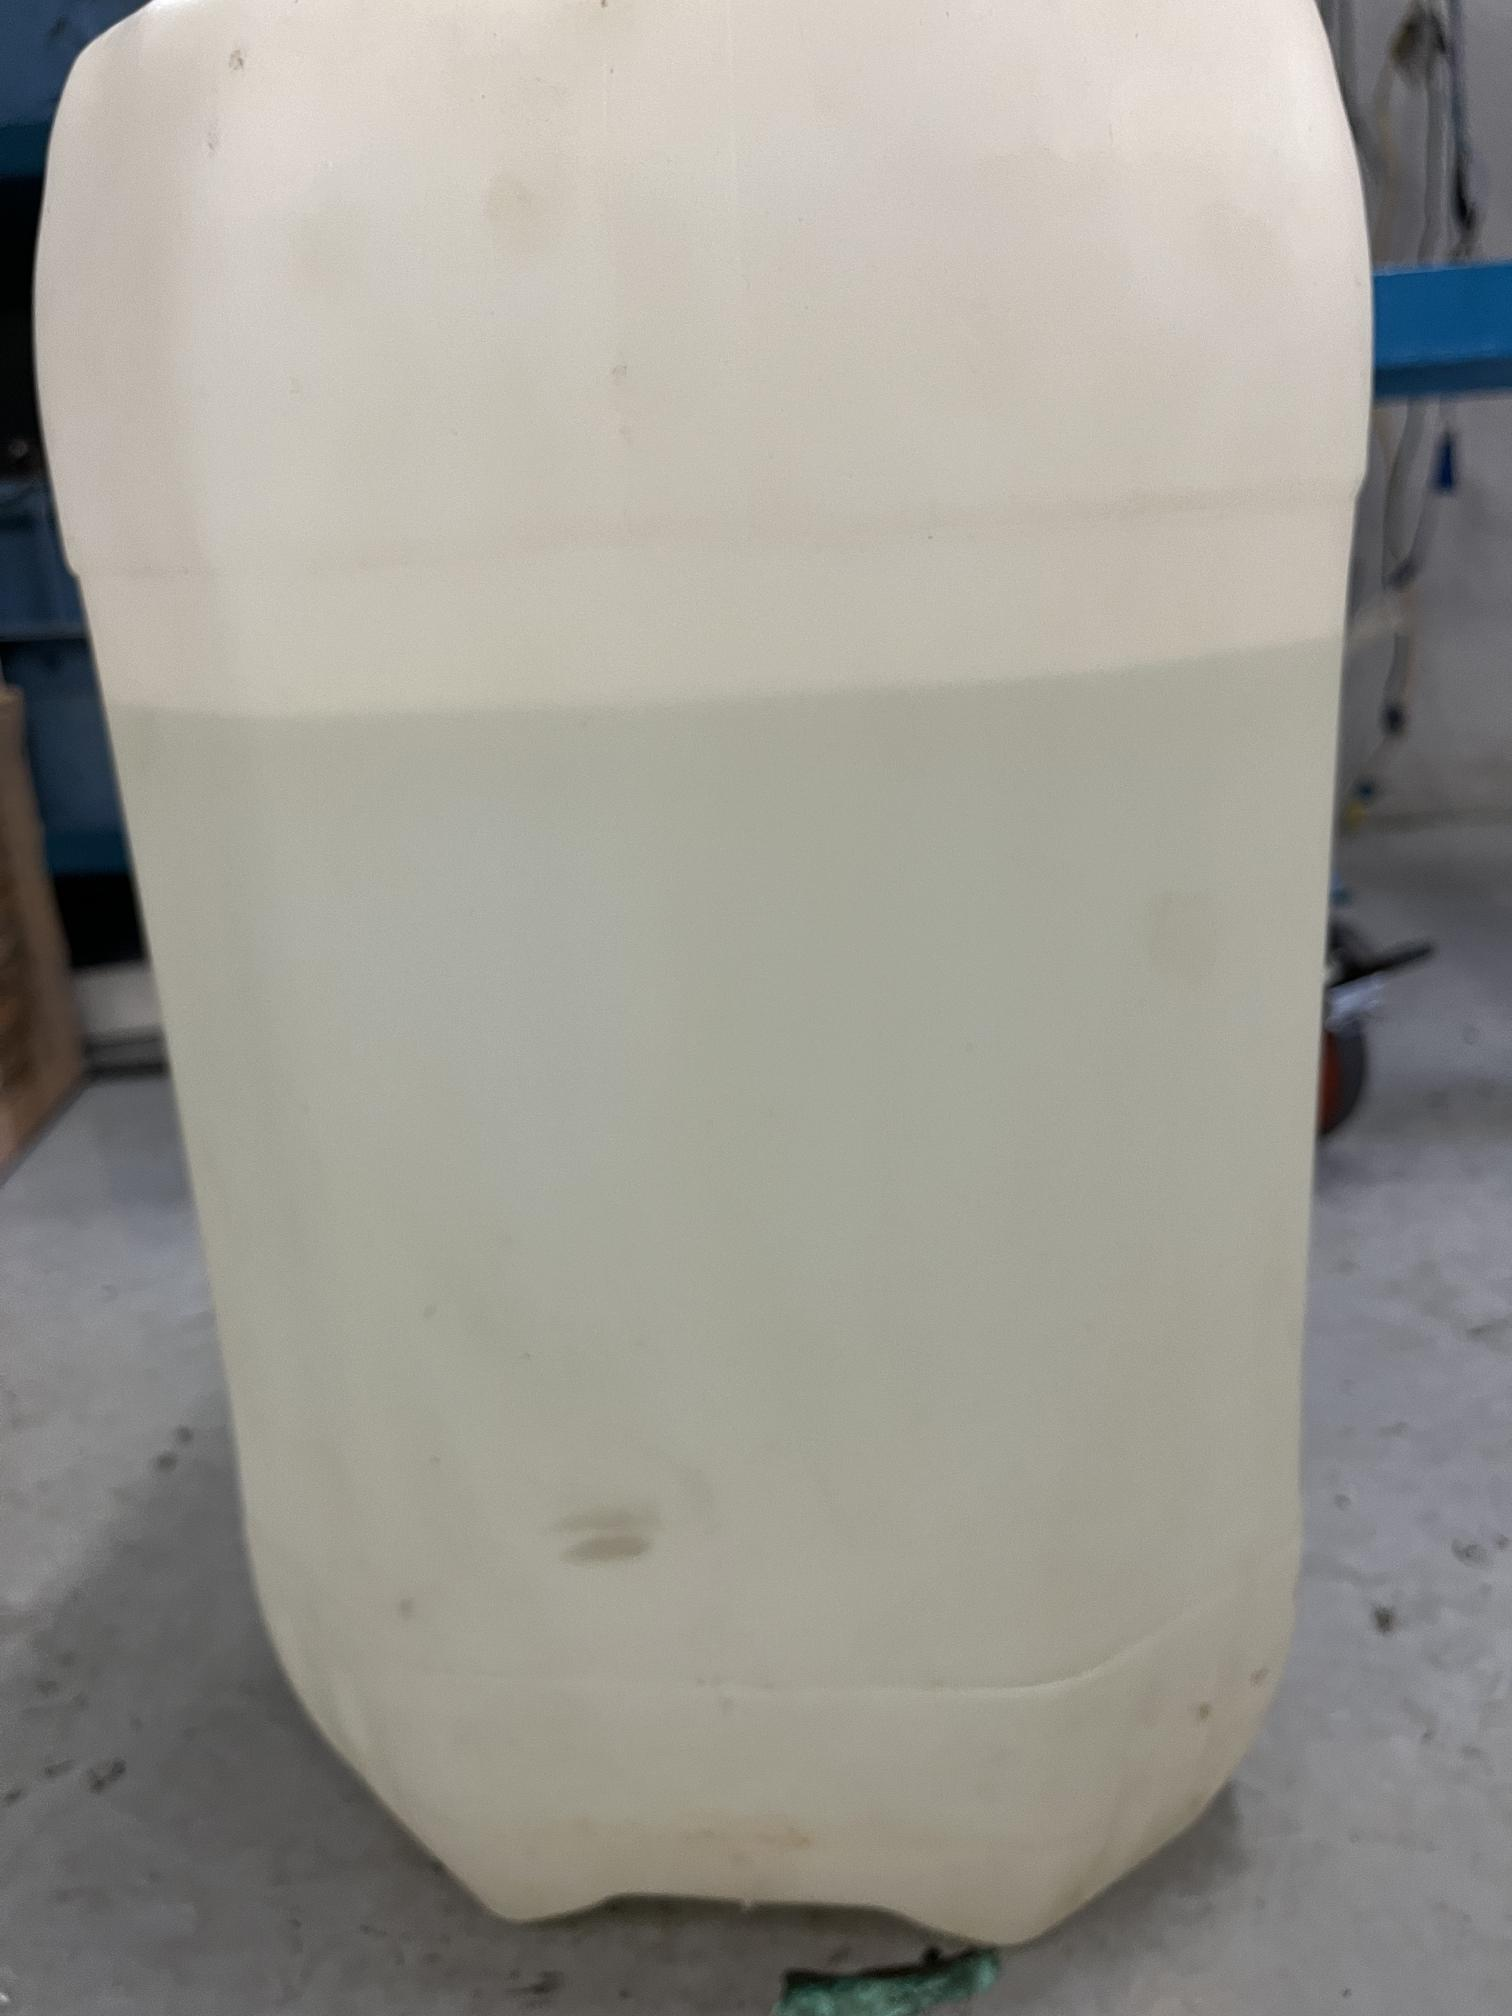Galao: (56, 95, 1390, 1965)
